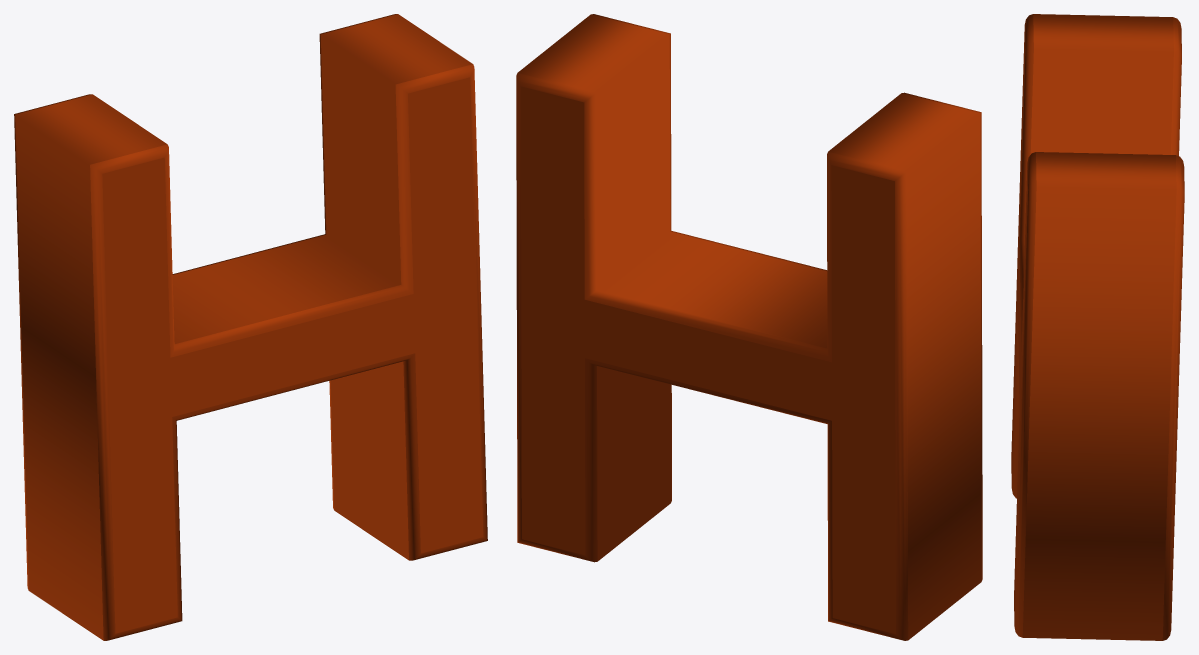
The model's file is letters_H.obj.
The picture shows the model from 3 angles, left to right: view 1: azimuth 30°, elevation 25°; view 2: azimuth 150°, elevation 25°; view 3: azimuth 270°, elevation 25°; orthographic projection. The views are drawn at different scales.
Visible parts, largest first — view 1: Text; view 2: Text; view 3: Text.
Boxes of the visible parts, x1,y1,x2,y2 form: Text: [14, 14, 487, 640]; Text: [516, 14, 982, 640]; Text: [1011, 14, 1184, 640].
Size of the model in its own units: 0.6131 by 0.7194 by 0.2477.
